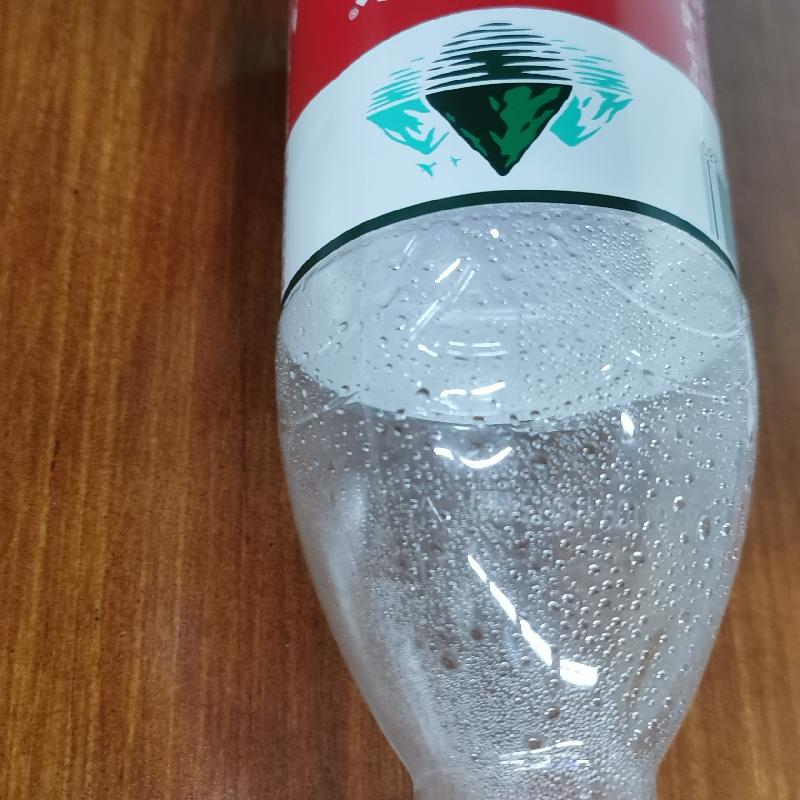bottles: (268, 1, 759, 799)
